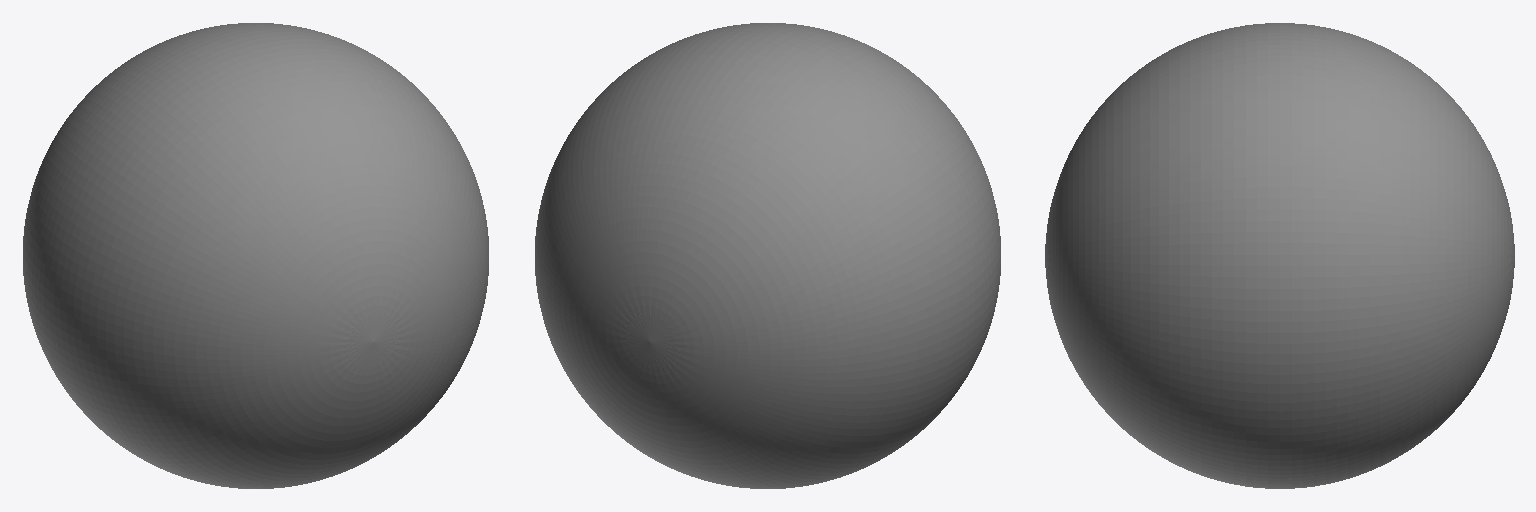
Rendered from 10467_Cratered_Moon_v2_Iterations-2.obj.
3 renders of one model, left to right at view 1: azimuth 30°, elevation 25°; view 2: azimuth 150°, elevation 25°; view 3: azimuth 270°, elevation 25°, orthographic.
Visible parts, largest first — view 1: 10467_Cratered_Moon_v1; view 2: 10467_Cratered_Moon_v1; view 3: 10467_Cratered_Moon_v1.
Part boxes in pixels (x1,y1,x2,y2): 10467_Cratered_Moon_v1: (23,23,488,488); 10467_Cratered_Moon_v1: (535,23,1000,488); 10467_Cratered_Moon_v1: (1045,23,1514,488).
Bounding box in the file's own units: 4742529 × 4742530 × 4792464.